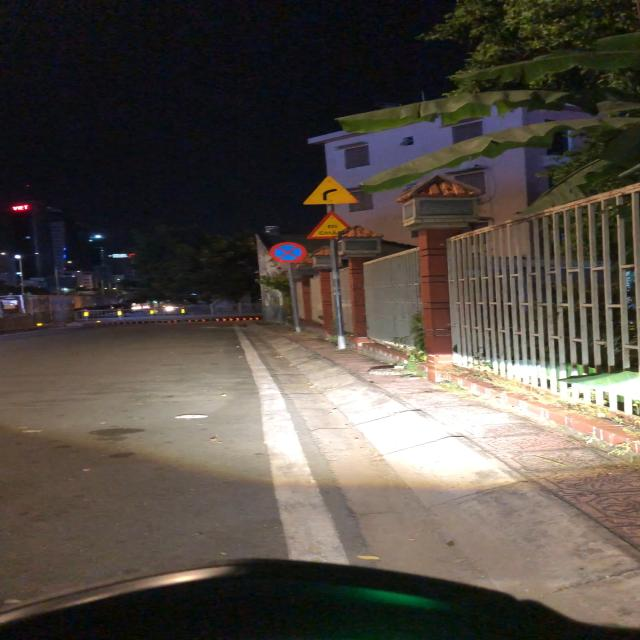Bien bao cam dung xe va do xe: (269, 241, 307, 263)
Bien bao cho ngoat nguy hiem: (302, 176, 360, 207)
Bien bao di cham: (305, 209, 354, 240)
